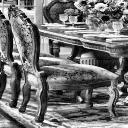chair_success: (2, 1, 123, 126)
